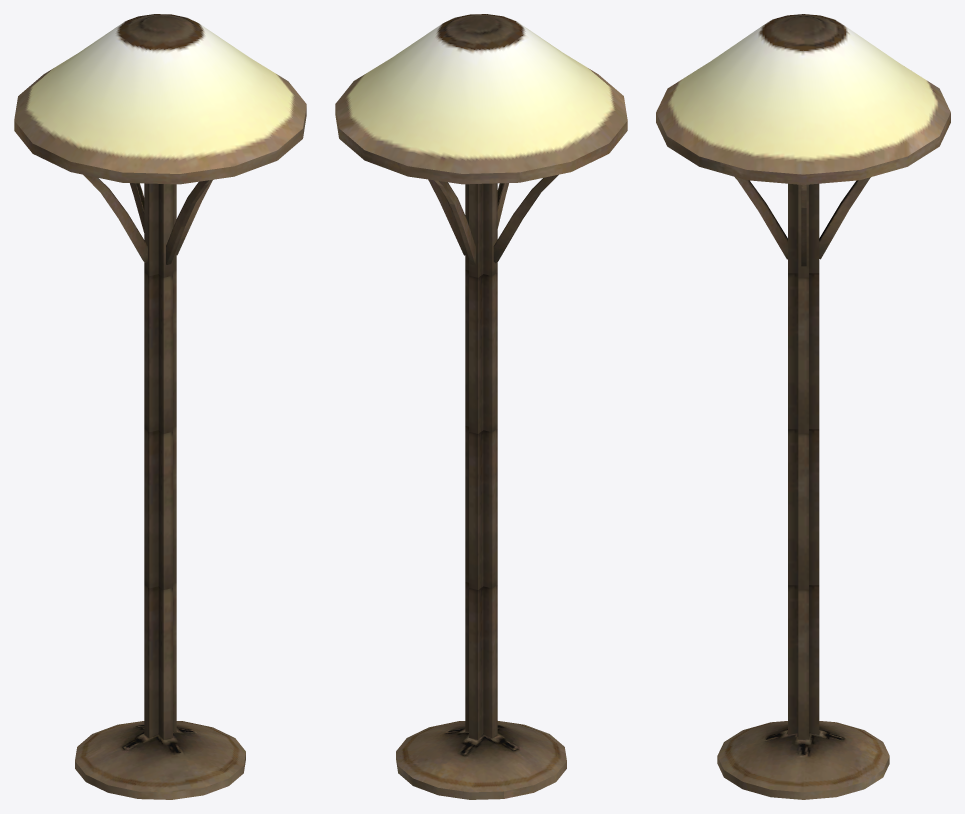
Rendered from Floor_Lamp_02.obj.
The picture shows the model from 3 angles, left to right: view 1: azimuth 30°, elevation 25°; view 2: azimuth 150°, elevation 25°; view 3: azimuth 270°, elevation 25°; orthographic projection.
Parts seen in each view (by area): view 1: Floor_Lamp_02; view 2: Floor_Lamp_02; view 3: Floor_Lamp_02.
Part boxes in pixels (bbox=[...]): Floor_Lamp_02: bbox=[14, 14, 306, 799]; Floor_Lamp_02: bbox=[335, 14, 627, 799]; Floor_Lamp_02: bbox=[656, 14, 950, 799].
Bounding box in the file's own units: 56.25 × 157 × 56.25.
Materials: 1 (1 with a texture image).
